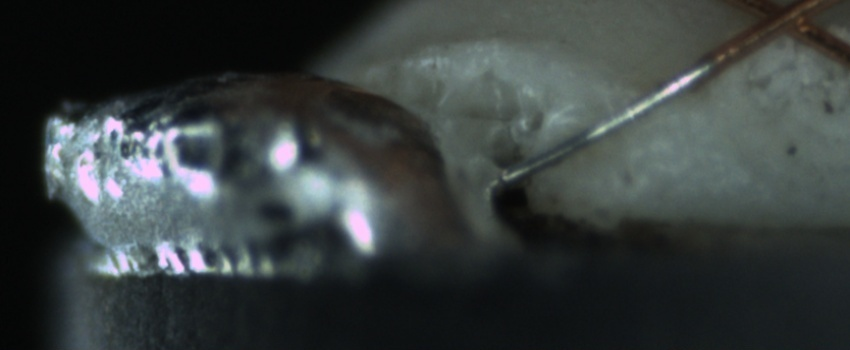CL: (737, 0, 828, 47)
TS: (500, 52, 717, 186)
